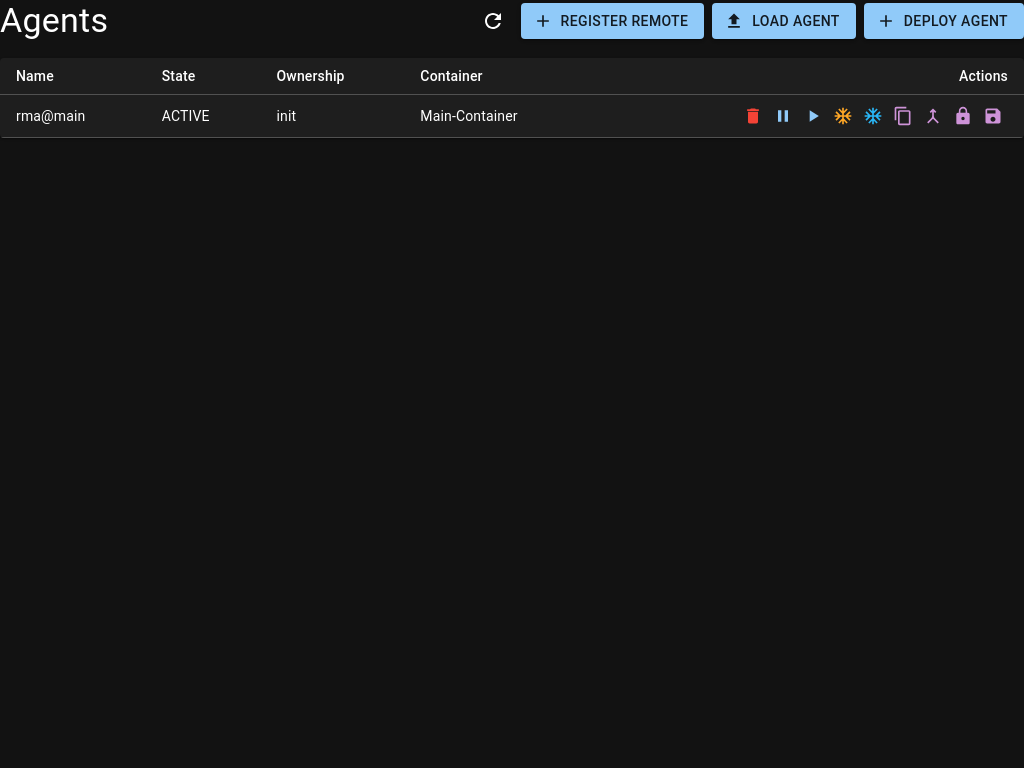
AgentsPage › Save Agent › Given save dialog open and repository empty, Then Save button is disabled
The image size is (1024, 768).
Expected: the text "rma@main" is shown, [0,94,146,138]
Click the button named "Save Agent": (993,116) [978,101,1008,131]
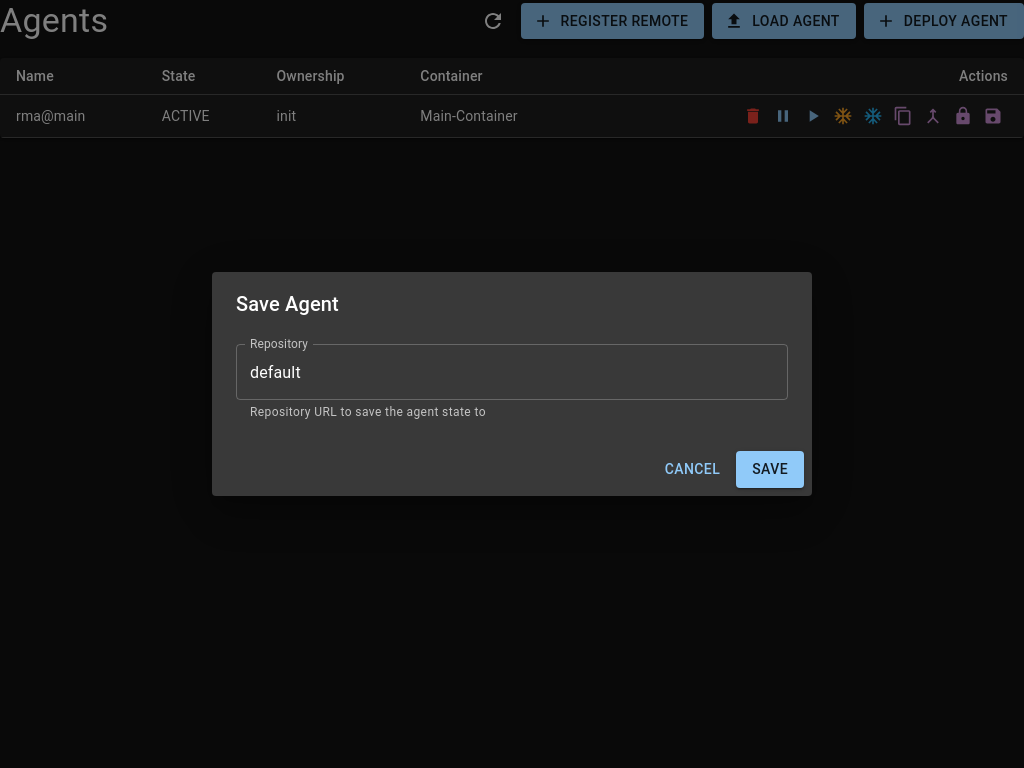
Now the field labelled "Repository" is shown
Clear the field labelled "Repository": (512,372) [236,344,788,400]
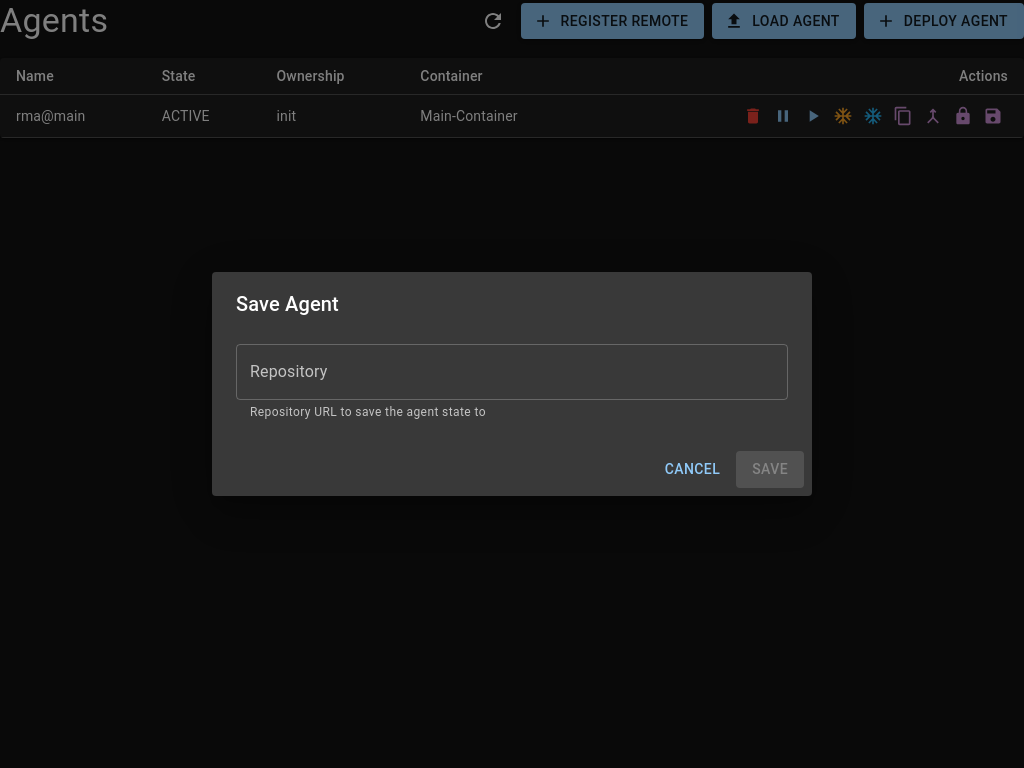
Now the button "Save" is disabled, box [736,451,804,488]
